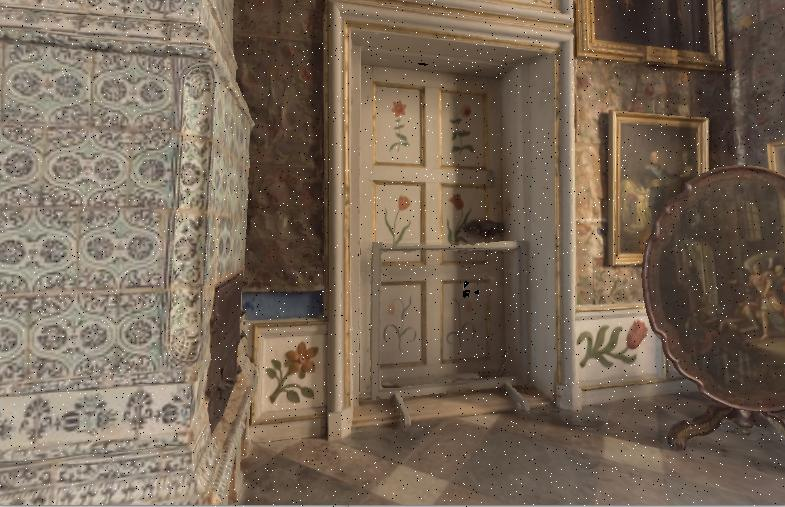door: (356, 45, 508, 409)
door-frame: (314, 0, 593, 430)
